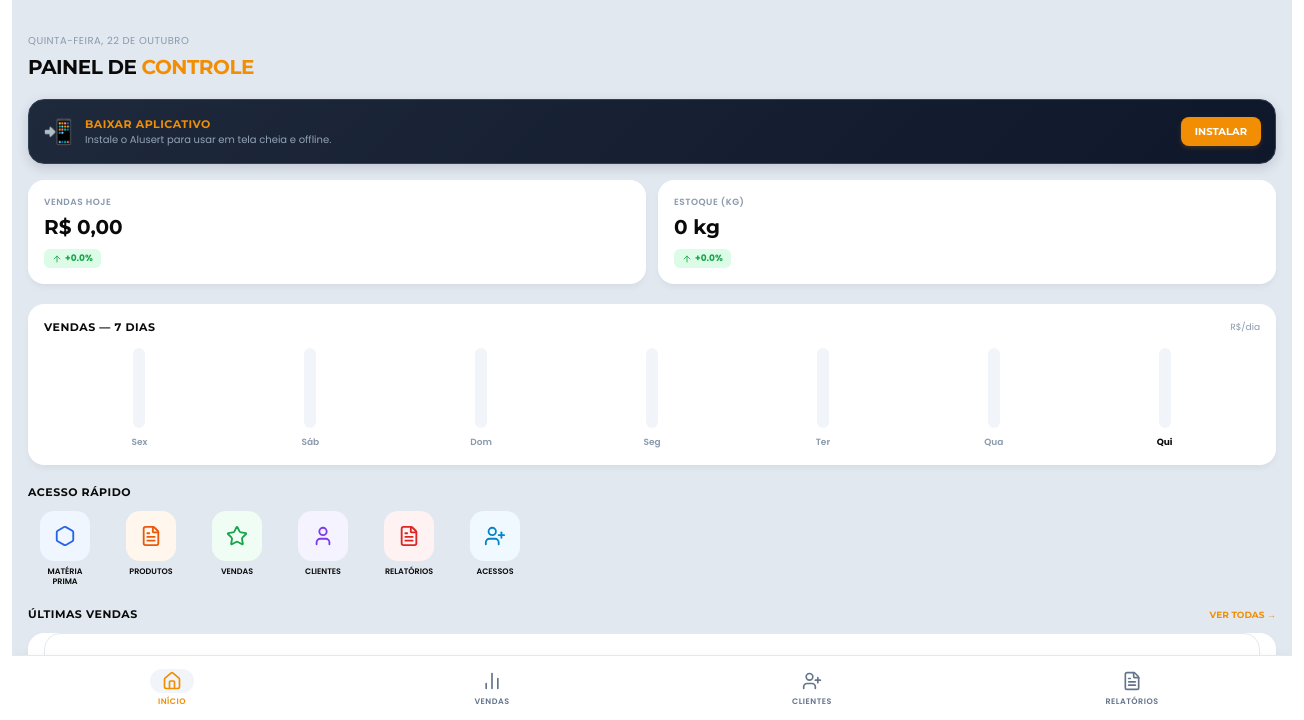
Test: Home – carregamento do painel › falha no prompt de instalação PWA é tratada
Click the button "INSTALAR": x=1221, y=132 [1181,117,1261,146]
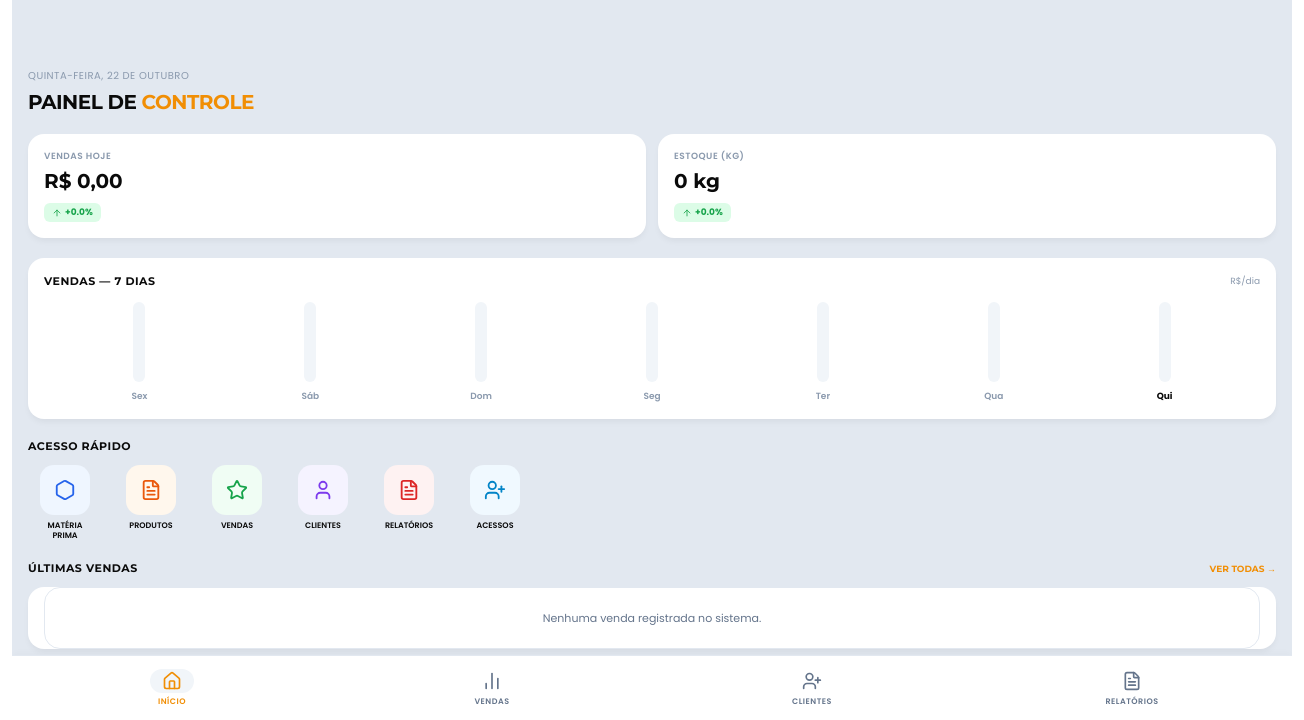
Result: the text "BAIXAR APLICATIVO" is gone
